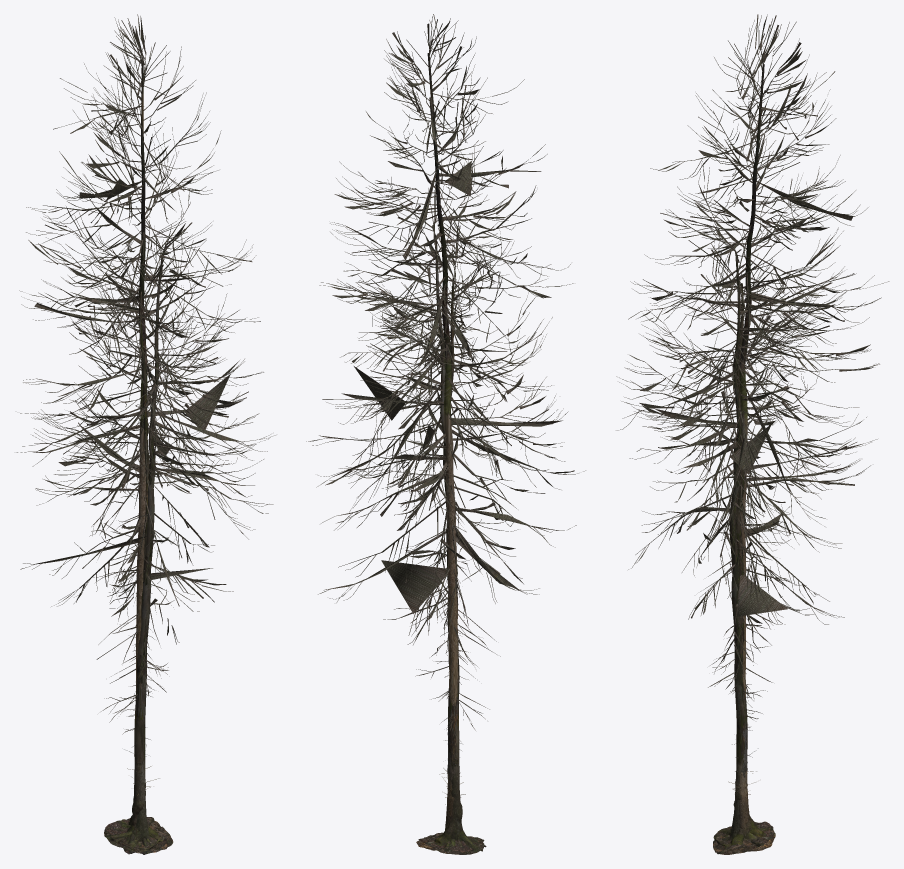
Rendered from fir_tree_01_bare.glb.
3 renders of one model, left to right at view 1: azimuth 30°, elevation 25°; view 2: azimuth 150°, elevation 25°; view 3: azimuth 270°, elevation 25°, orthographic. The views are drawn at different scales.
Visible parts, largest first — view 1: fir_tree_01_a_LOD2.001, fir_tree_01_b_LOD2.001, fir_tree_01_c_LOD2.001, fir_tree_01_c_LOD2, fir_tree_01_a_LOD2.002, fir_tree_01_b_LOD2.002, fir_tree_01_a_LOD2, fir_tree_01_b_LOD2; view 2: fir_tree_01_a_LOD2.001, fir_tree_01_b_LOD2.001, fir_tree_01_c_LOD2.001, fir_tree_01_a_LOD2.002, fir_tree_01_b_LOD2.002, fir_tree_01_c_LOD2, fir_tree_01_a_LOD2, fir_tree_01_b_LOD2; view 3: fir_tree_01_a_LOD2.001, fir_tree_01_c_LOD2.001, fir_tree_01_b_LOD2.001, fir_tree_01_c_LOD2, fir_tree_01_a_LOD2.002, fir_tree_01_b_LOD2.002, fir_tree_01_b_LOD2, fir_tree_01_a_LOD2.
Part boxes in pixels (<box>): fir_tree_01_a_LOD2.001: <box>16,14,263,611</box>; fir_tree_01_b_LOD2.001: <box>20,235,263,644</box>; fir_tree_01_c_LOD2.001: <box>20,216,275,606</box>; fir_tree_01_c_LOD2: <box>104,257,166,853</box>; fir_tree_01_a_LOD2.002: <box>105,61,168,854</box>; fir_tree_01_b_LOD2.002: <box>114,293,173,851</box>; fir_tree_01_a_LOD2: <box>82,455,177,742</box>; fir_tree_01_b_LOD2: <box>93,549,174,746</box>; fir_tree_01_a_LOD2.001: <box>318,14,576,547</box>; fir_tree_01_b_LOD2.001: <box>338,222,585,644</box>; fir_tree_01_c_LOD2.001: <box>306,184,565,663</box>; fir_tree_01_a_LOD2.002: <box>418,53,486,851</box>; fir_tree_01_b_LOD2.002: <box>416,277,484,854</box>; fir_tree_01_c_LOD2: <box>425,235,484,854</box>; fir_tree_01_a_LOD2: <box>406,448,516,758</box>; fir_tree_01_b_LOD2: <box>383,548,500,750</box>; fir_tree_01_a_LOD2.001: <box>628,14,889,584</box>; fir_tree_01_c_LOD2.001: <box>616,221,877,624</box>; fir_tree_01_b_LOD2.001: <box>621,234,870,673</box>; fir_tree_01_c_LOD2: <box>715,258,773,849</box>; fir_tree_01_a_LOD2.002: <box>713,64,770,852</box>; fir_tree_01_b_LOD2.002: <box>713,283,775,854</box>; fir_tree_01_b_LOD2: <box>708,551,806,758</box>; fir_tree_01_a_LOD2: <box>700,452,783,757</box>.
Size of the model in its own units: 5.71 by 18.51 by 5.54.
5 materials, 5 textured.
